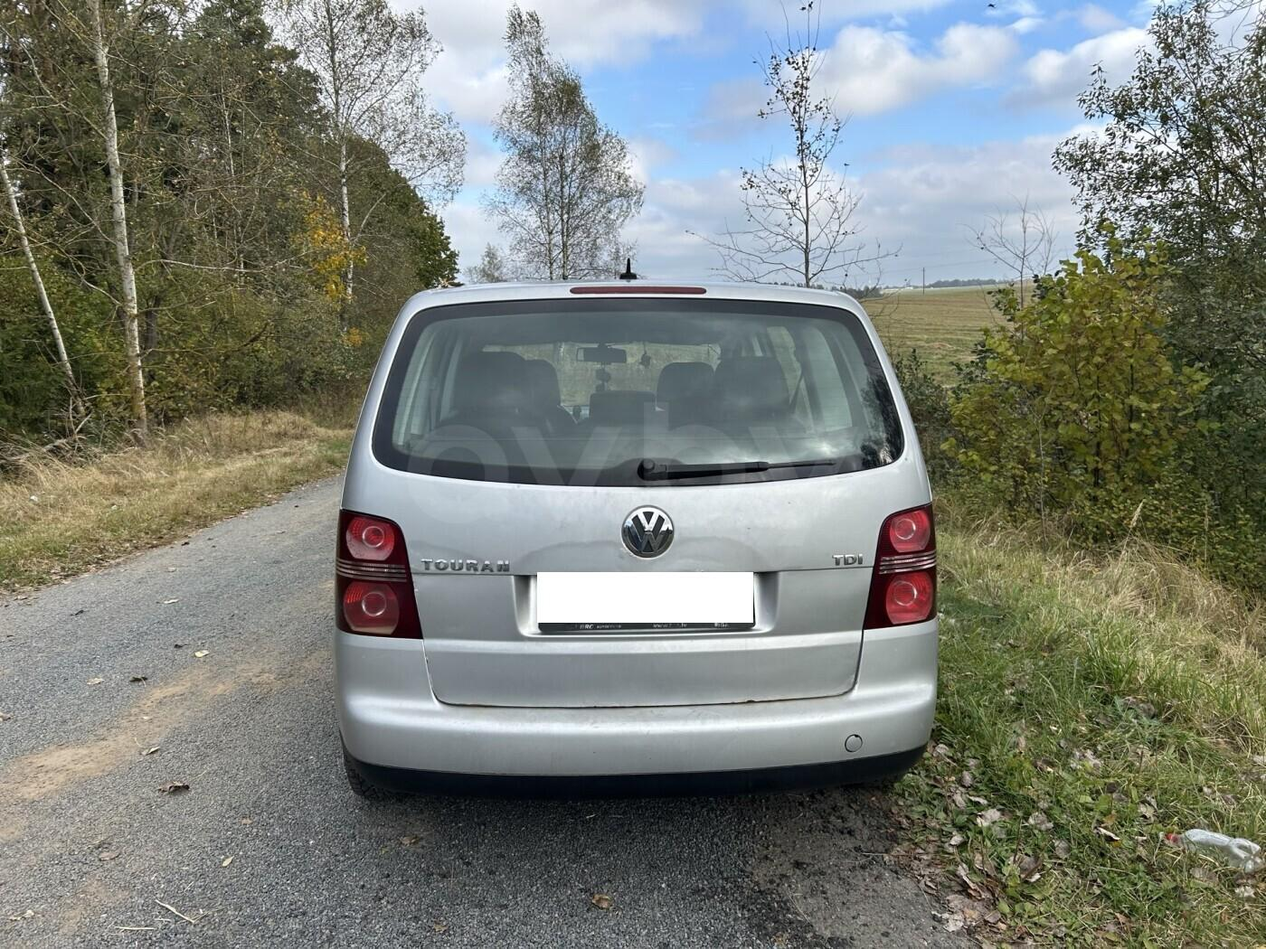Touran_2003-2006: (333, 278, 940, 793)
